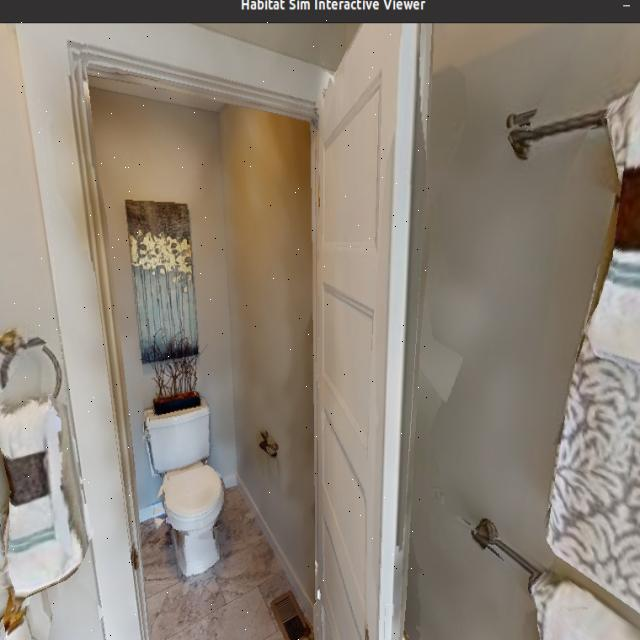door: (312, 17, 433, 640)
door-frame: (8, 21, 396, 640)
toilet: (136, 381, 260, 589)
